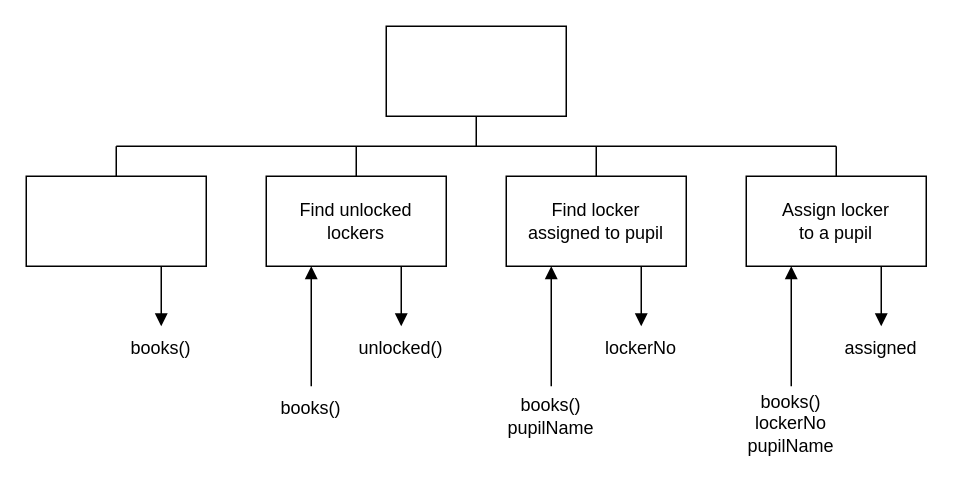
Image size: 953x488. Some labels were removed from this diagram. Here are the shapes that lost their labels. From the top down, the centre of each, then its label:
the point at 475,70: Self Service Library System
the point at 115,220: Read book data
